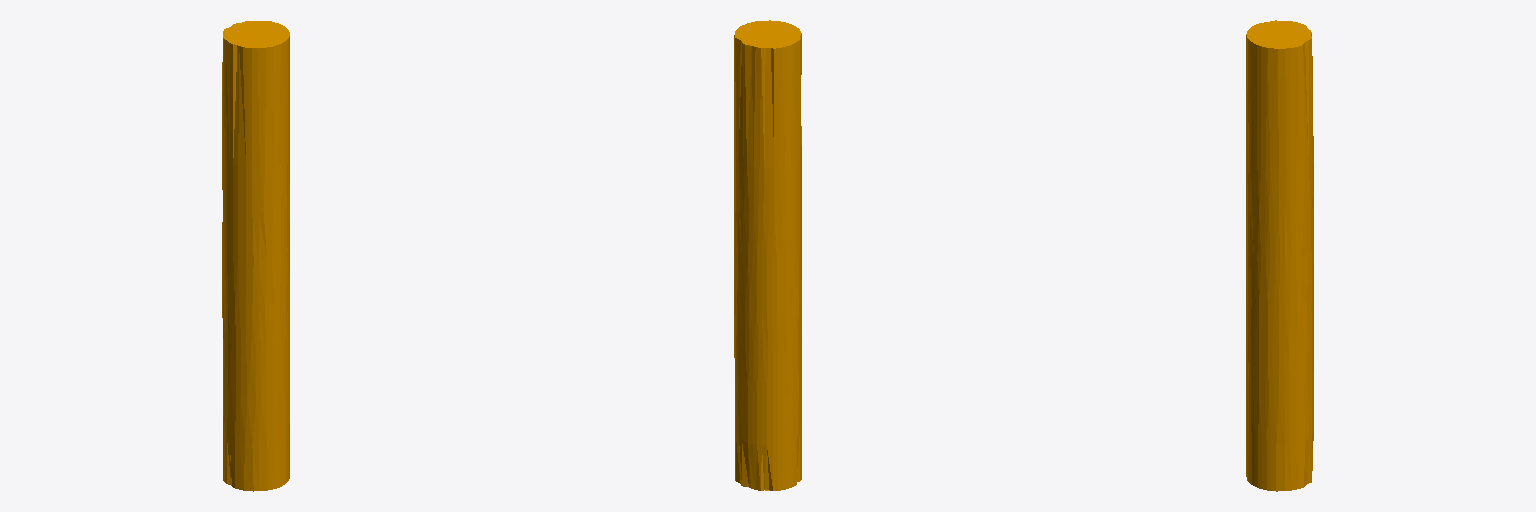
robot.urdf — 00638_plug:
<?xml version="1.0"?>
<robot name="00638_plug">
	<link name="00638_plug">
		<visual>
			<geometry>
				<mesh filename="../mesh/00638/asset_plug.obj"/>
			</geometry>
		</visual>
		<collision>
			<geometry>
				<mesh filename="../mesh/00638/asset_plug.obj"/>
			</geometry>
			<sdf resolution="256"/>
		</collision>
	</link>
</robot>

--- What the picture shows (computed from the rendered views, not written in the file) ---
Views: 3 orthographic renders of the robot side by side, from view 1: azimuth 30°, elevation 25°; view 2: azimuth 150°, elevation 25°; view 3: azimuth 270°, elevation 25°.
Model 00638_plug with 1 links and 0 joints (none), rooted at 00638_plug, posed all joints at 0.
Visible links, largest first — view 1: 00638_plug; view 2: 00638_plug; view 3: 00638_plug.
Boxes of the visible links, box(x1,y1,x2,y2) form: 00638_plug: box(222, 21, 289, 491); 00638_plug: box(734, 20, 801, 490); 00638_plug: box(1246, 20, 1313, 491).
Bounding box of the posed robot: 0.0083 × 0.0083 × 0.0602 m (x, y, z).
1 mesh visuals loaded from 1 distinct referenced files (1 OBJ).
